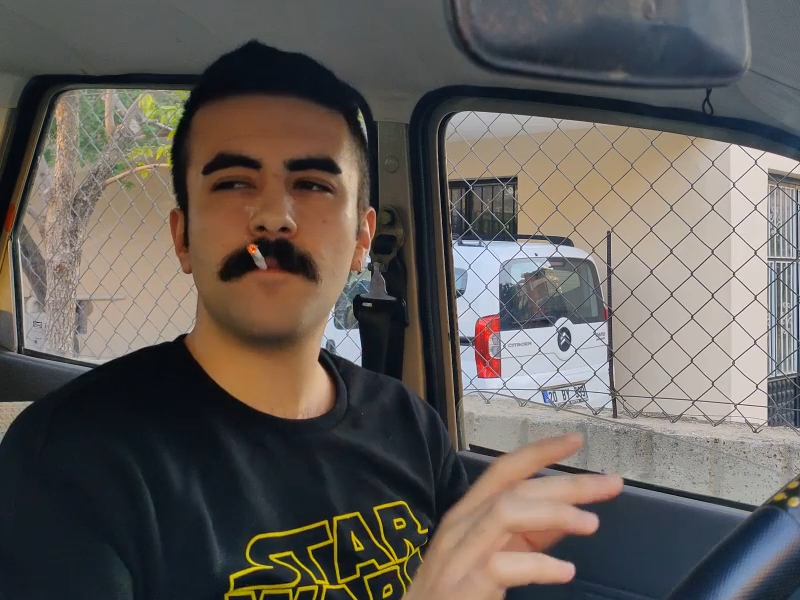sigara: (244, 239, 271, 276)
